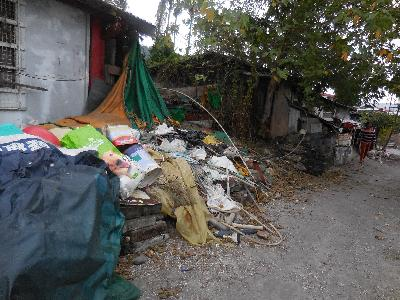plastic_bag: (1, 130, 145, 300), (48, 36, 186, 130), (150, 159, 239, 246)
